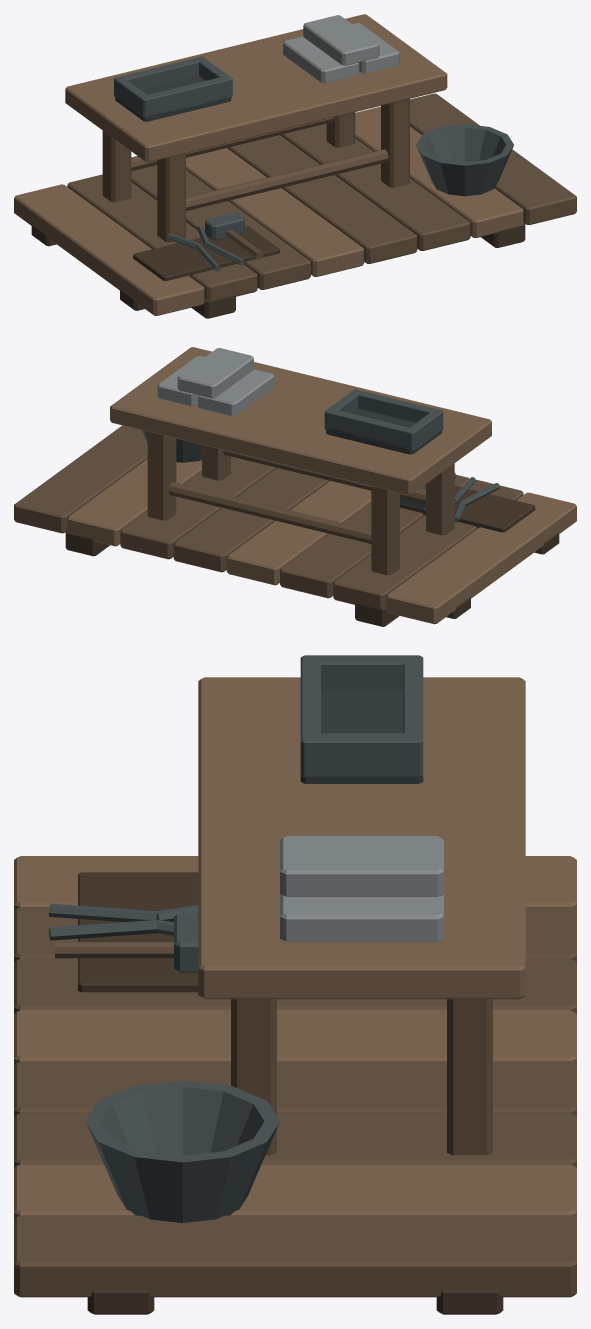
File: casting-station.glb
3 renders of one model, top to bottom at view 1: azimuth 30°, elevation 25°; view 2: azimuth 150°, elevation 25°; view 3: azimuth 270°, elevation 25°, orthographic. The views are drawn at different scales.
Parts seen in each view (by area): view 1: casting-station__body; view 2: casting-station__body; view 3: casting-station__body.
Boxes of the visible parts, x1,y1,x2,y2 form: casting-station__body: (14, 14, 576, 318); casting-station__body: (14, 347, 576, 626); casting-station__body: (14, 655, 576, 1314).
Size of the model in its own units: 1.9 by 0.715 by 1.1.
